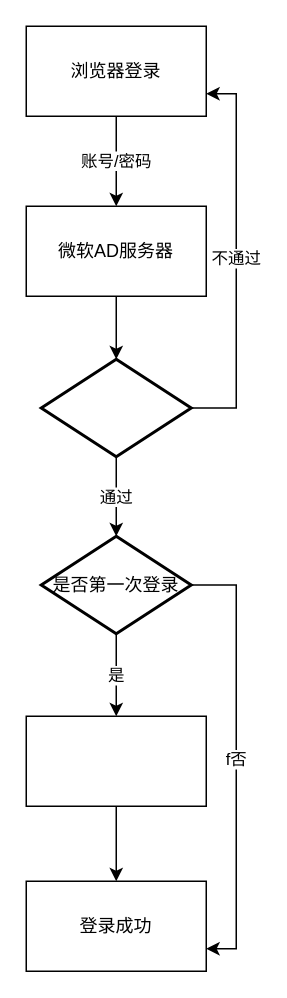
The diagram is 287 pixels wide and 998 high, and some of its shapes have lost their labels. Each missing label, with the box of its shape:
创建用户信息: (25, 715, 206, 806)
登录校验: (39, 357, 192, 458)
